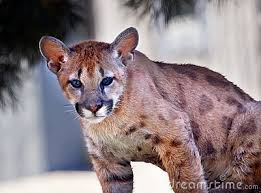Mountain Lion: (40, 28, 171, 124)
